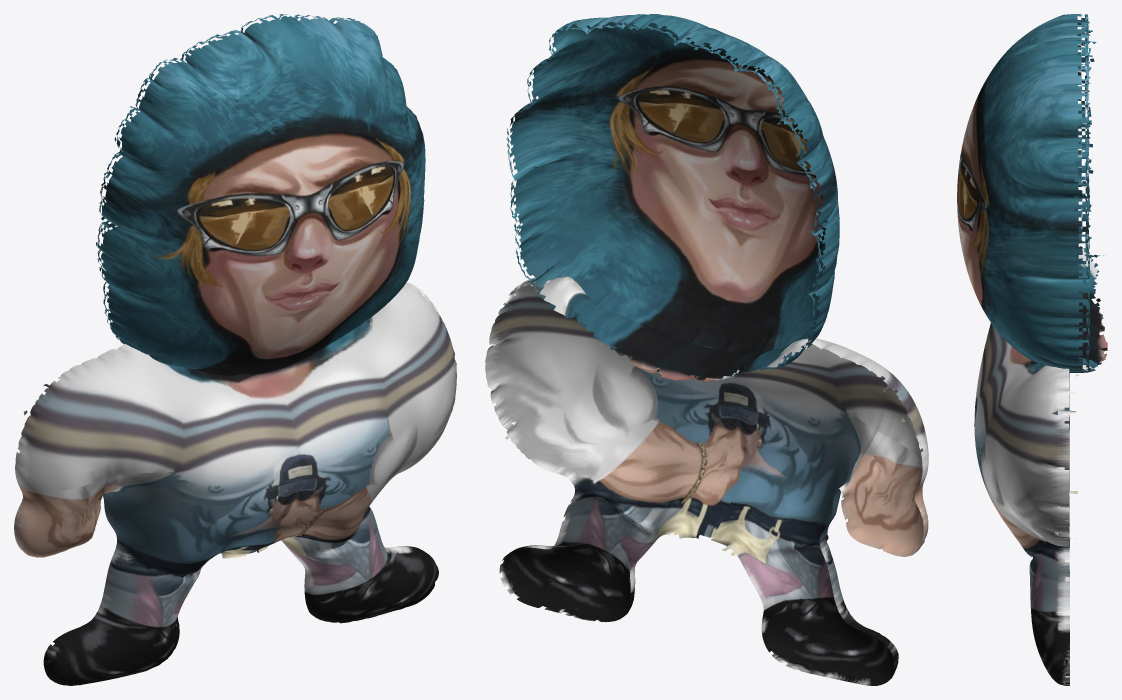
The model's file is pacoinflaoFRONT.glb.
3 views of the same model, side by side, from view 1: azimuth 30°, elevation 25°; view 2: azimuth 150°, elevation 25°; view 3: azimuth 270°, elevation 25° (orthographic). The views are drawn at different scales.
Visible parts, largest first — view 1: front; view 2: front; view 3: front.
Boxes of the visible parts, x1,y1,x2,y2 form: front: (14,14,456,685); front: (485,14,928,685); front: (957,14,1107,685).
Size of the model in its own units: 2.02 by 2.72 by 0.6421.
1 material, 1 textured.
